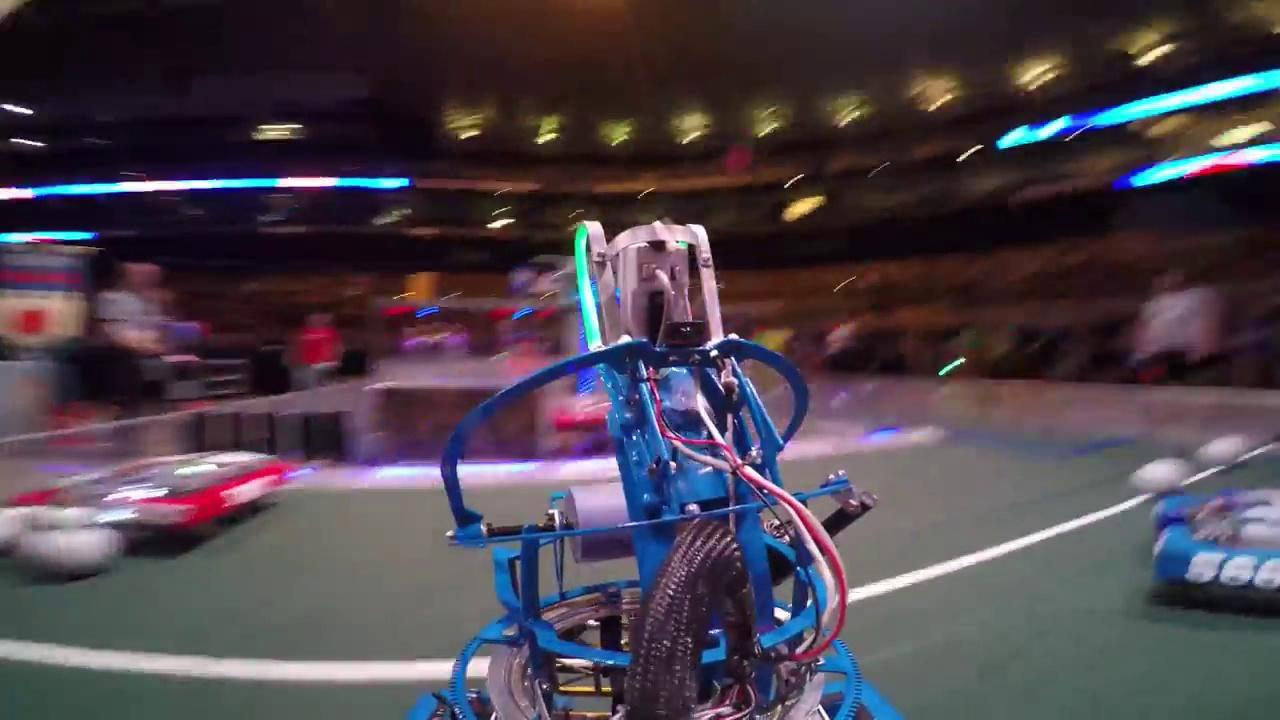robot: (6, 438, 295, 554), (1146, 481, 1280, 608)
